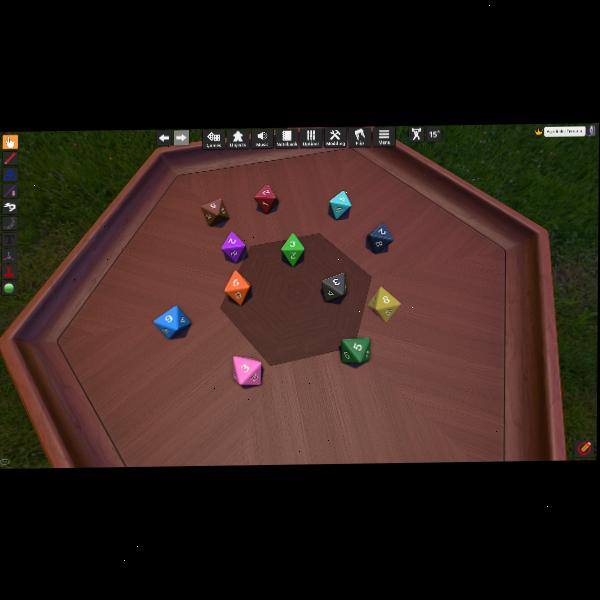d8: (153, 305, 190, 338), (369, 286, 401, 321), (223, 270, 250, 305), (233, 355, 261, 386), (367, 222, 393, 253), (282, 233, 305, 266), (201, 198, 228, 226), (254, 184, 279, 214), (222, 230, 246, 261), (340, 337, 368, 362), (328, 190, 351, 220), (321, 273, 345, 301)
